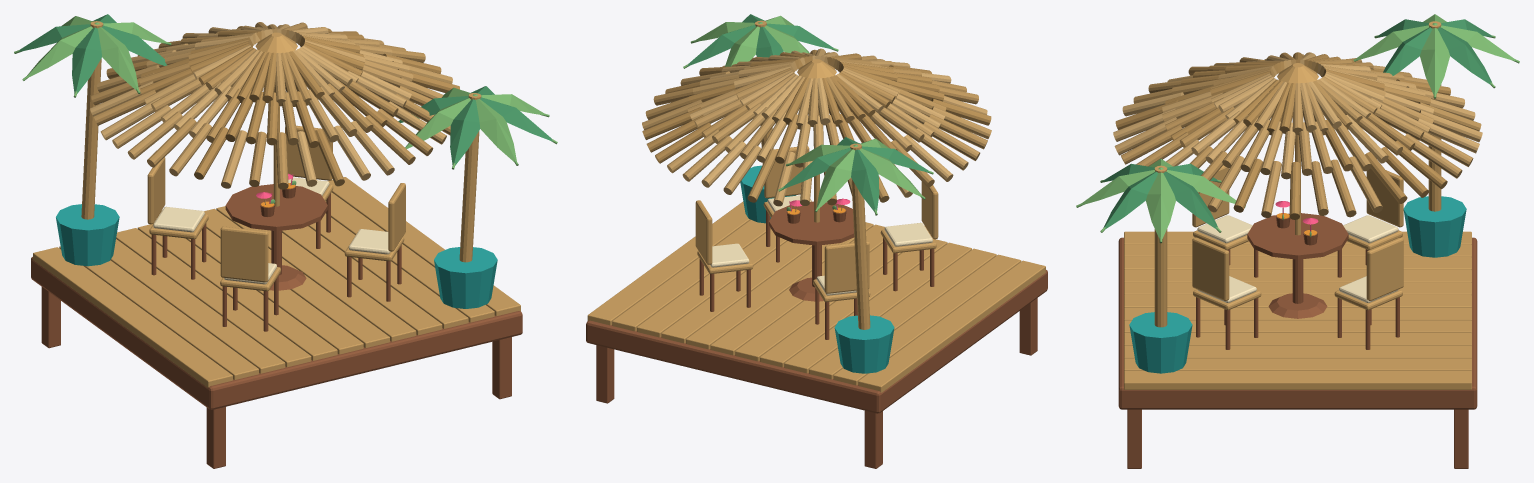
The model's file is honolulu-lounge.glb.
3 renders of one model, left to right at view 1: azimuth 30°, elevation 25°; view 2: azimuth 150°, elevation 25°; view 3: azimuth 270°, elevation 25°, orthographic. The views are drawn at different scales.
Visible parts, largest first — view 1: Lounge | Honey bamboo, Lounge | Warm teak, Lounge | Thatch 00, Lounge | Thatch 01, Lounge | Thatch 04, Lounge | Thatch 02, Lounge | Lagoon enamel, Lounge | Thatch 03, Lounge | Young leaf, Lounge | Palm green, Lounge | Ivory; view 2: Lounge | Honey bamboo, Lounge | Warm teak, Lounge | Thatch 02, Lounge | Thatch 00, Lounge | Thatch 01, Lounge | Thatch 03, Lounge | Thatch 04, Lounge | Young leaf, Lounge | Palm green, Lounge | Lagoon enamel, Lounge | Ivory; view 3: Lounge | Honey bamboo, Lounge | Warm teak, Lounge | Thatch 02, Lounge | Thatch 00, Lounge | Thatch 01, Lounge | Thatch 04, Lounge | Lagoon enamel, Lounge | Young leaf, Lounge | Palm green, Lounge | Thatch 03, Lounge | Ivory.
Part boxes in pixels (x1,y1,x2,y2): Lounge | Honey bamboo: (33,21,520,387); Lounge | Warm teak: (31,184,522,468); Lounge | Thatch 00: (106,28,459,186); Lounge | Thatch 01: (91,25,450,189); Lounge | Thatch 04: (90,24,411,186); Lounge | Thatch 02: (96,22,452,176); Lounge | Lagoon enamel: (56,204,497,308); Lounge | Thatch 03: (112,28,446,188); Lounge | Young leaf: (14,16,557,203); Lounge | Palm green: (18,14,553,165); Lounge | Ivory: (153,177,390,284); Lounge | Honey bamboo: (587,20,1045,392); Lounge | Warm teak: (586,201,1047,468); Lounge | Thatch 02: (642,55,991,195); Lounge | Thatch 00: (642,52,991,205); Lounge | Thatch 01: (645,49,987,202); Lounge | Thatch 03: (721,52,987,206); Lounge | Thatch 04: (689,48,953,197); Lounge | Young leaf: (683,15,933,215); Lounge | Palm green: (687,14,929,211); Lounge | Lagoon enamel: (740,165,894,373); Lounge | Ivory: (710,195,932,295); Lounge | Honey bamboo: (1124,21,1471,389); Lounge | Warm teak: (1118,213,1477,468); Lounge | Thatch 02: (1162,52,1473,217); Lounge | Thatch 00: (1115,52,1450,219); Lounge | Thatch 01: (1120,52,1481,217); Lounge | Thatch 04: (1113,53,1479,179); Lounge | Lagoon enamel: (1129,196,1466,373); Lounge | Young leaf: (1076,14,1519,243); Lounge | Palm green: (1103,19,1492,229); Lounge | Thatch 03: (1114,54,1482,174); Lounge | Ivory: (1197,215,1398,302).
Size of the model in its own units: 4.21 by 3.48 by 4.21.
